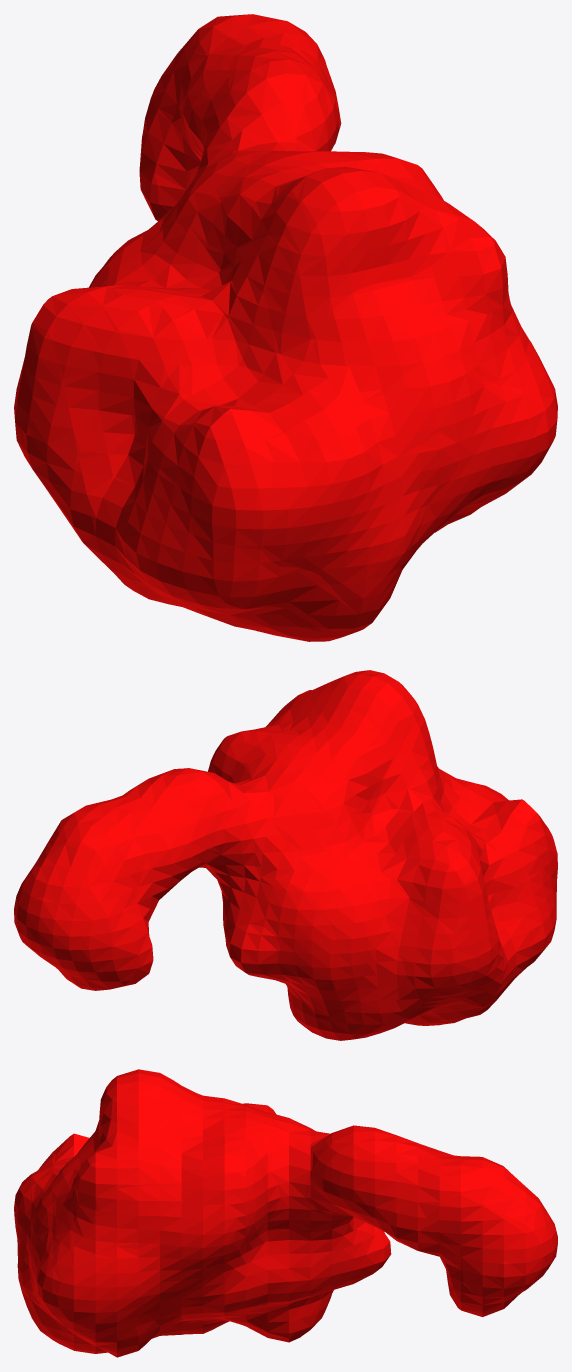
File: fsaB_coarse.dae
3 views of the same model, one above another, from view 1: azimuth 30°, elevation 25°; view 2: azimuth 150°, elevation 25°; view 3: azimuth 270°, elevation 25° (orthographic). The views are drawn at different scales.
Visible parts, largest first — view 1: fsaB; view 2: fsaB; view 3: fsaB.
Part boxes in pixels (x1,y1,x2,y2): fsaB: (14, 14, 557, 641); fsaB: (14, 670, 557, 1040); fsaB: (14, 1069, 557, 1357).
Size of the model in its own units: 48.04 by 42.65 by 70.81.
